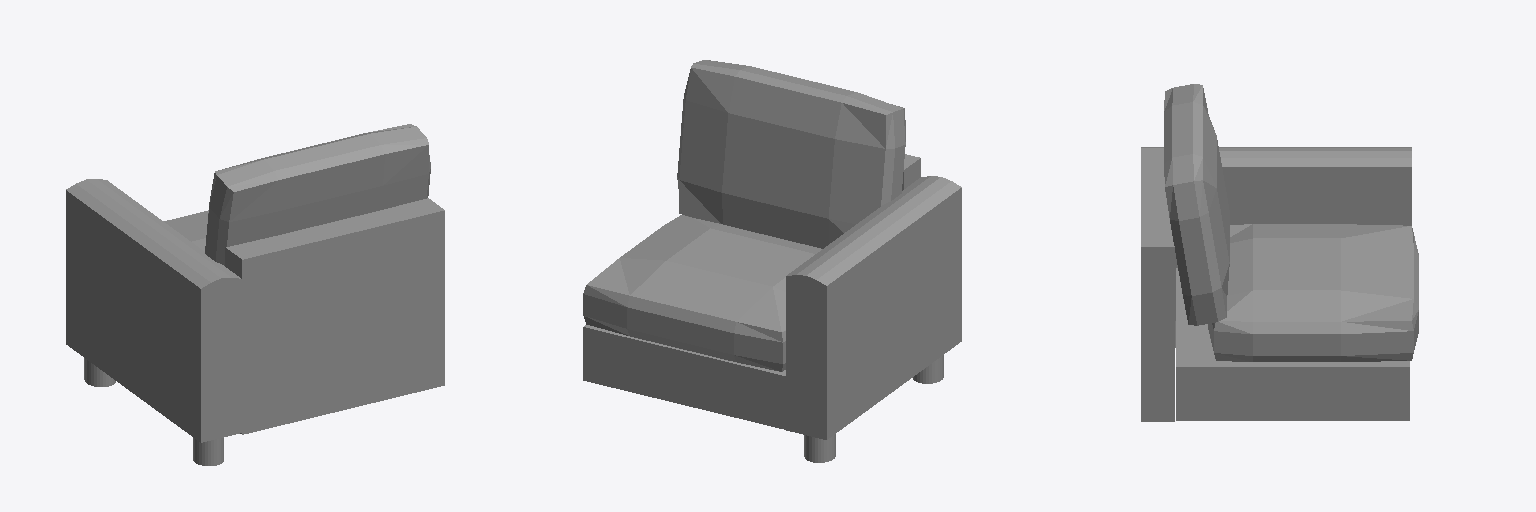
Rendered from simple_sofa_3.obj.
3 views of the same model, side by side, from view 1: azimuth 30°, elevation 25°; view 2: azimuth 150°, elevation 25°; view 3: azimuth 270°, elevation 25° (orthographic).
Parts seen in each view (by area): view 1: Cube.004; view 2: Cube.004; view 3: Cube.004.
Part boxes in pixels (x1,y1,x2,y2): Cube.004: (66,124,444,465); Cube.004: (583,60,961,462); Cube.004: (1141,84,1418,421).
Bounding box in the file's own units: 2.11 × 2.21 × 2.04.